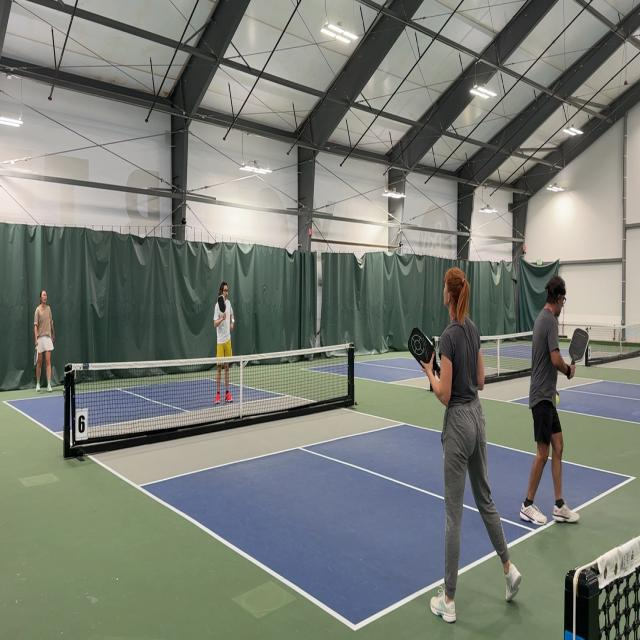ball: (553, 394, 560, 405)
